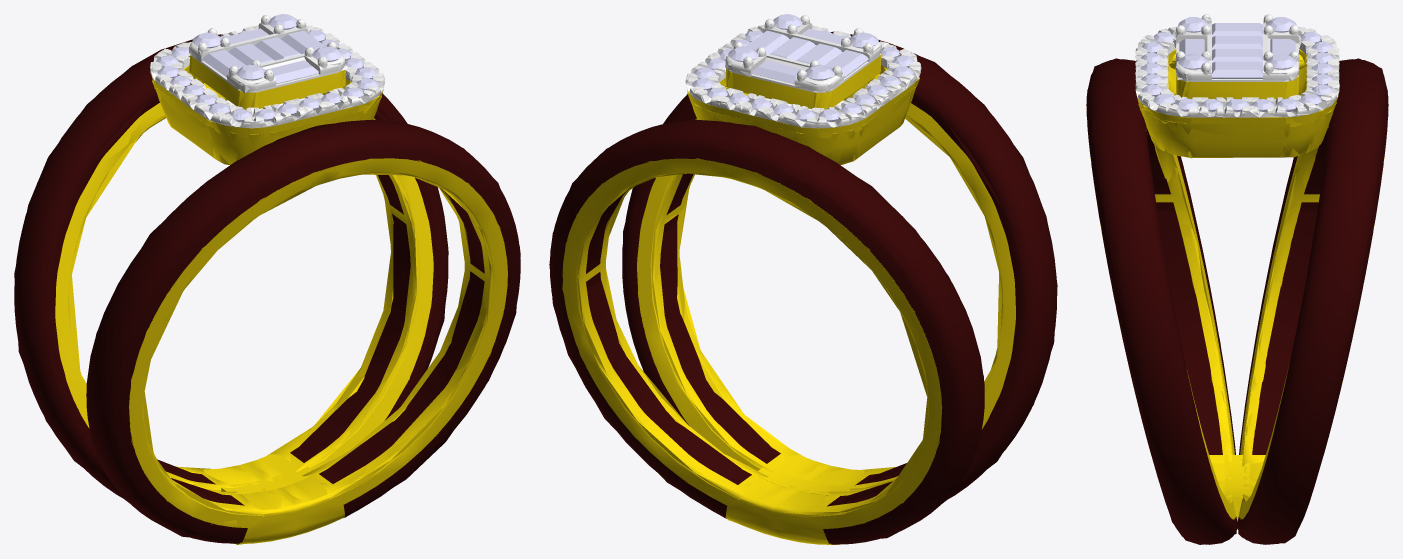
Rendered from DLR-D000677458.glb.
The picture shows the model from 3 angles, left to right: view 1: azimuth 30°, elevation 25°; view 2: azimuth 150°, elevation 25°; view 3: azimuth 270°, elevation 25°; orthographic projection.
Parts seen in each view (by area): view 1: highPolyMesh, lowPolyMesh; view 2: highPolyMesh, lowPolyMesh; view 3: highPolyMesh, lowPolyMesh.
Boxes of the visible parts, x1=… form: highPolyMesh: x1=14, y1=14, x2=520, y2=543; lowPolyMesh: x1=14, y1=14, x2=520, y2=544; highPolyMesh: x1=550, y1=14, x2=1057, y2=544; lowPolyMesh: x1=549, y1=15, x2=1057, y2=543; highPolyMesh: x1=1086, y1=14, x2=1388, y2=544; lowPolyMesh: x1=1086, y1=14, x2=1388, y2=544.
Size of the model in its own units: 0.0218 by 0.0239 by 0.0135.
